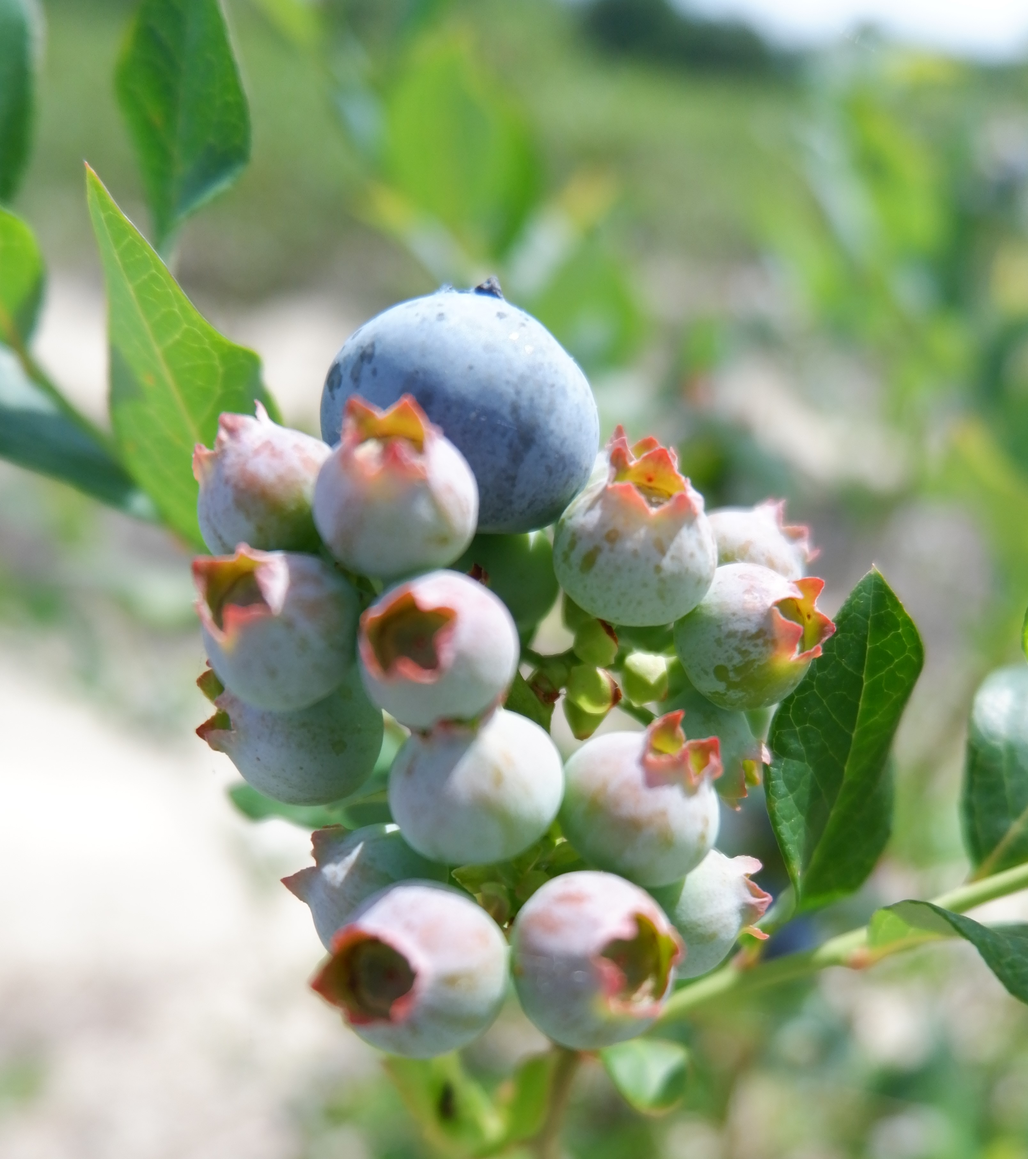Immature: (310, 391, 476, 582), (329, 885, 507, 1058), (514, 874, 677, 1048), (556, 448, 714, 624), (563, 715, 718, 887), (389, 714, 561, 866), (192, 554, 356, 710), (359, 573, 516, 729), (197, 674, 380, 806), (679, 568, 835, 710), (276, 826, 446, 938), (197, 409, 327, 552), (656, 687, 772, 813), (651, 856, 768, 979), (445, 526, 560, 632), (715, 500, 814, 580)
Mature: (320, 293, 593, 531)
